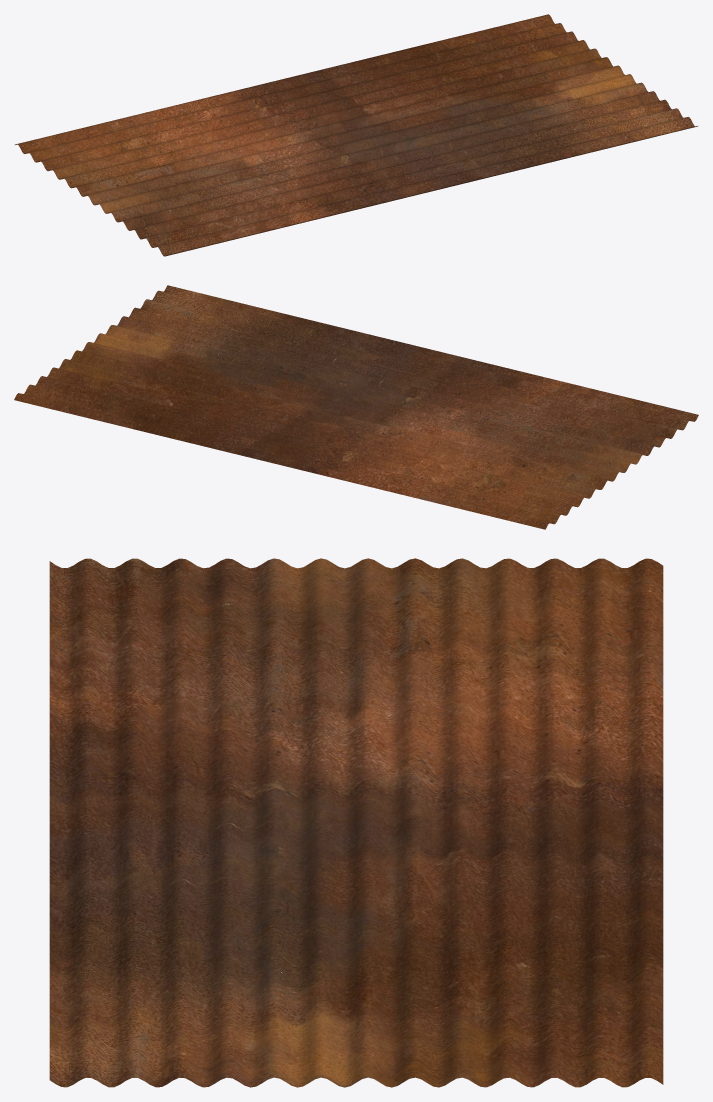
File: oluklu_sac_pasli_2x1m.gltf
3 renders of one model, top to bottom at view 1: azimuth 30°, elevation 25°; view 2: azimuth 150°, elevation 25°; view 3: azimuth 270°, elevation 25°, orthographic. The views are drawn at different scales.
Visible parts, largest first — view 1: oluklu_sac_pasli_2x1m; view 2: oluklu_sac_pasli_2x1m; view 3: oluklu_sac_pasli_2x1m.
Boxes of the visible parts, x1,y1,x2,y2 form: oluklu_sac_pasli_2x1m: (15, 14, 697, 256); oluklu_sac_pasli_2x1m: (14, 285, 698, 529); oluklu_sac_pasli_2x1m: (49, 558, 663, 1087).
Size of what is drawn, in the model's own units: 2 by 0.0188 by 1.
1 material, 1 textured.
